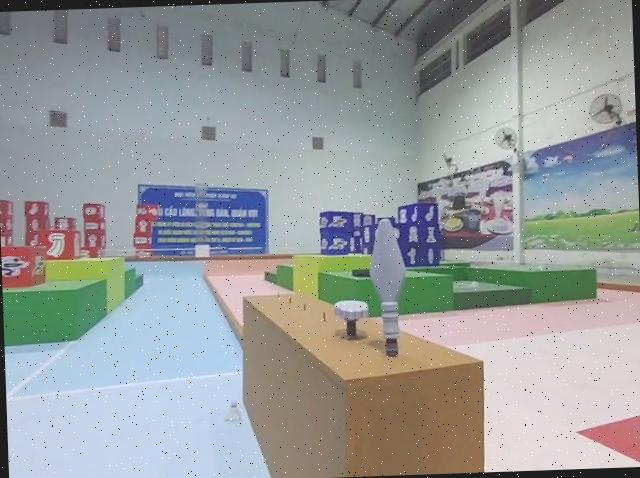Hand: (330, 296, 371, 339)
Sph: (365, 216, 411, 357)
